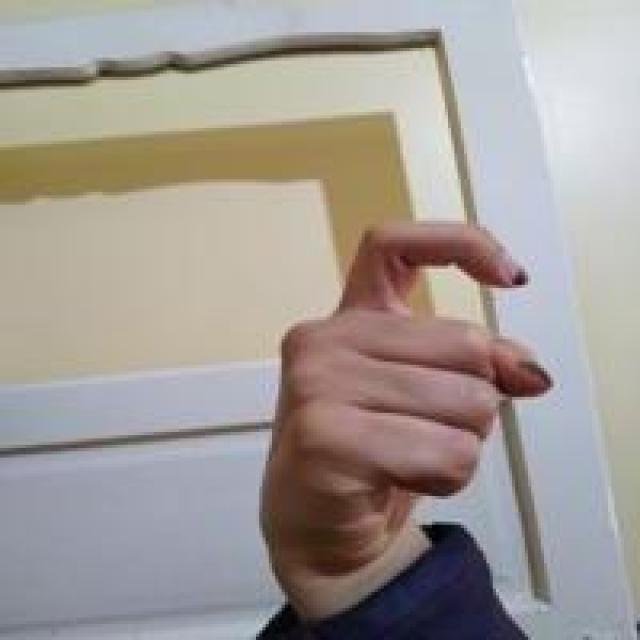X: (251, 218, 555, 547)
